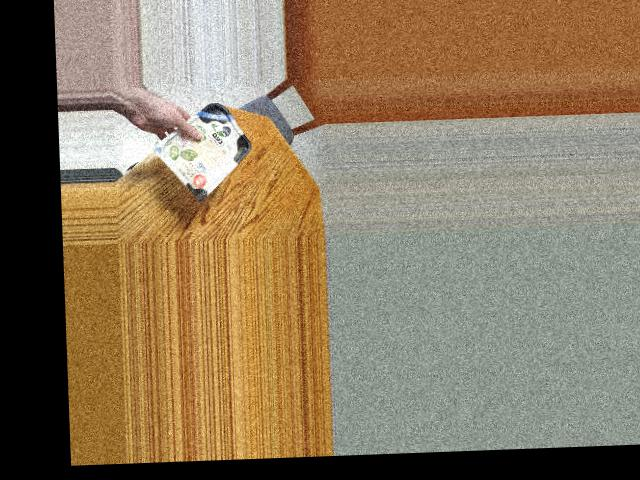cheese: (169, 108, 254, 190)
